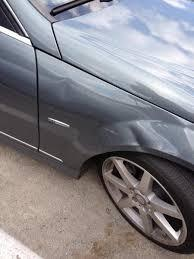fender-dent: (37, 92, 184, 179)
